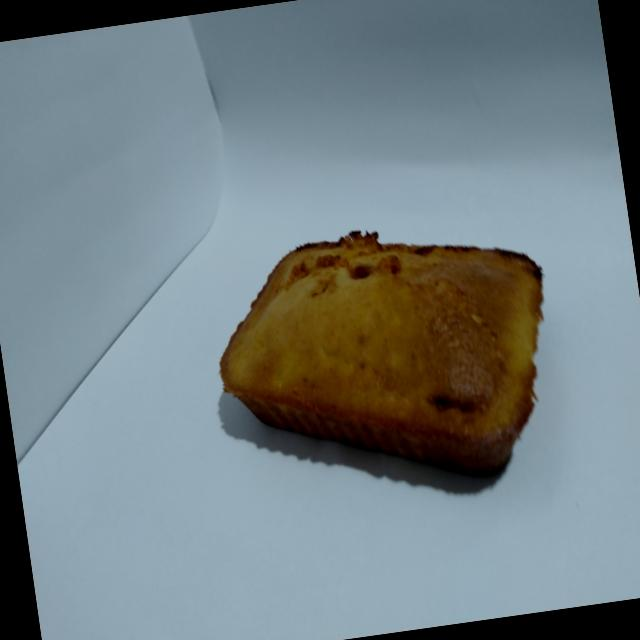Sopa: (192, 200, 582, 520)
